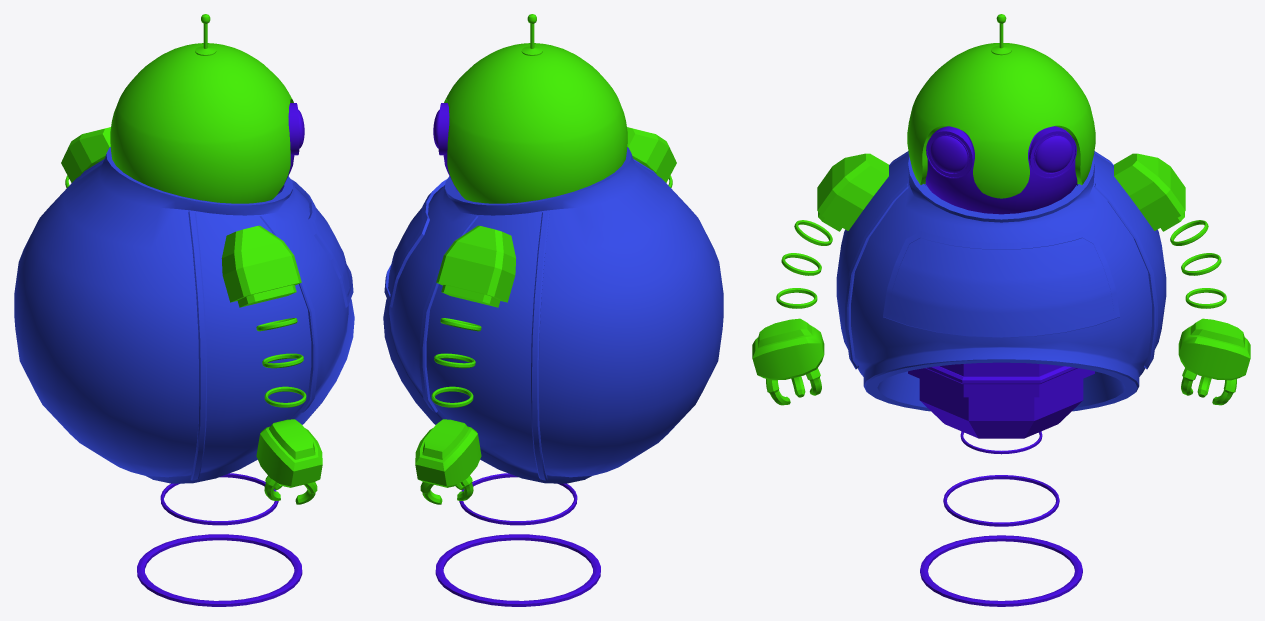
Rendered from fbx_CompanionNoSkeleton.fbx.
The picture shows the model from 3 angles, left to right: view 1: azimuth 30°, elevation 25°; view 2: azimuth 150°, elevation 25°; view 3: azimuth 270°, elevation 25°; orthographic projection.
Visible parts, largest first — view 1: Cylinder.016, Cylinder.018, Cube.004, Cylinder, Cube.005, Cylinder.010, Cylinder.017, Cube.001, Cylinder.019, Cylinder.009, Cylinder.011, Cylinder.012; view 2: Cylinder.016, Cylinder.018, Cube.001, Cylinder, Cube.002, Cylinder.010, Cylinder.017, Cube.004, Cylinder.008, Cylinder.009, Cylinder.014, Cylinder.012; view 3: Cylinder.016, Cylinder.017, Cylinder.018, Cube, Cylinder.013, Cube.001, Cube.004, Cube.002, Cube.005, Cylinder.010, Cylinder, Sphere (+7 smaller).
Boxes of the visible parts, box(x1,y1,x2,y2) form: Cylinder.016: box(14, 147, 354, 483); Cylinder.018: box(110, 43, 293, 203); Cube.004: box(221, 225, 301, 307); Cylinder: box(81, 159, 318, 480); Cube.005: box(256, 419, 322, 487); Cylinder.010: box(137, 534, 302, 606); Cylinder.017: box(291, 179, 353, 307); Cube.001: box(61, 127, 110, 182); Cylinder.019: box(256, 318, 306, 407); Cylinder.009: box(160, 473, 278, 525); Cylinder.011: box(264, 475, 317, 504); Cylinder.012: box(288, 103, 299, 155); Cylinder.016: box(383, 147, 723, 483); Cylinder.018: box(444, 43, 627, 203); Cube.001: box(436, 225, 516, 307); Cylinder: box(419, 159, 656, 480); Cube.002: box(415, 419, 481, 487); Cylinder.010: box(435, 534, 600, 606); Cylinder.017: box(384, 179, 446, 307); Cube.004: box(627, 127, 676, 182); Cylinder.008: box(431, 318, 481, 407); Cylinder.009: box(459, 473, 577, 525); Cylinder.014: box(420, 475, 473, 504); Cylinder.012: box(438, 103, 449, 155); Cylinder.016: box(836, 153, 1166, 411); Cylinder.017: box(883, 231, 1119, 337); Cylinder.018: box(907, 43, 1095, 198); Cube: box(908, 362, 1094, 438); Cylinder.013: box(925, 128, 1077, 214); Cube.001: box(1114, 153, 1185, 231); Cube.004: box(817, 153, 888, 231); Cube.002: box(1178, 318, 1250, 380); Cube.005: box(752, 318, 824, 380); Cylinder.010: box(920, 535, 1082, 606); Cylinder: box(845, 151, 1157, 369); Sphere: box(930, 135, 1072, 172).
Bounding box in the file's own units: 86.26 × 156 × 128.
